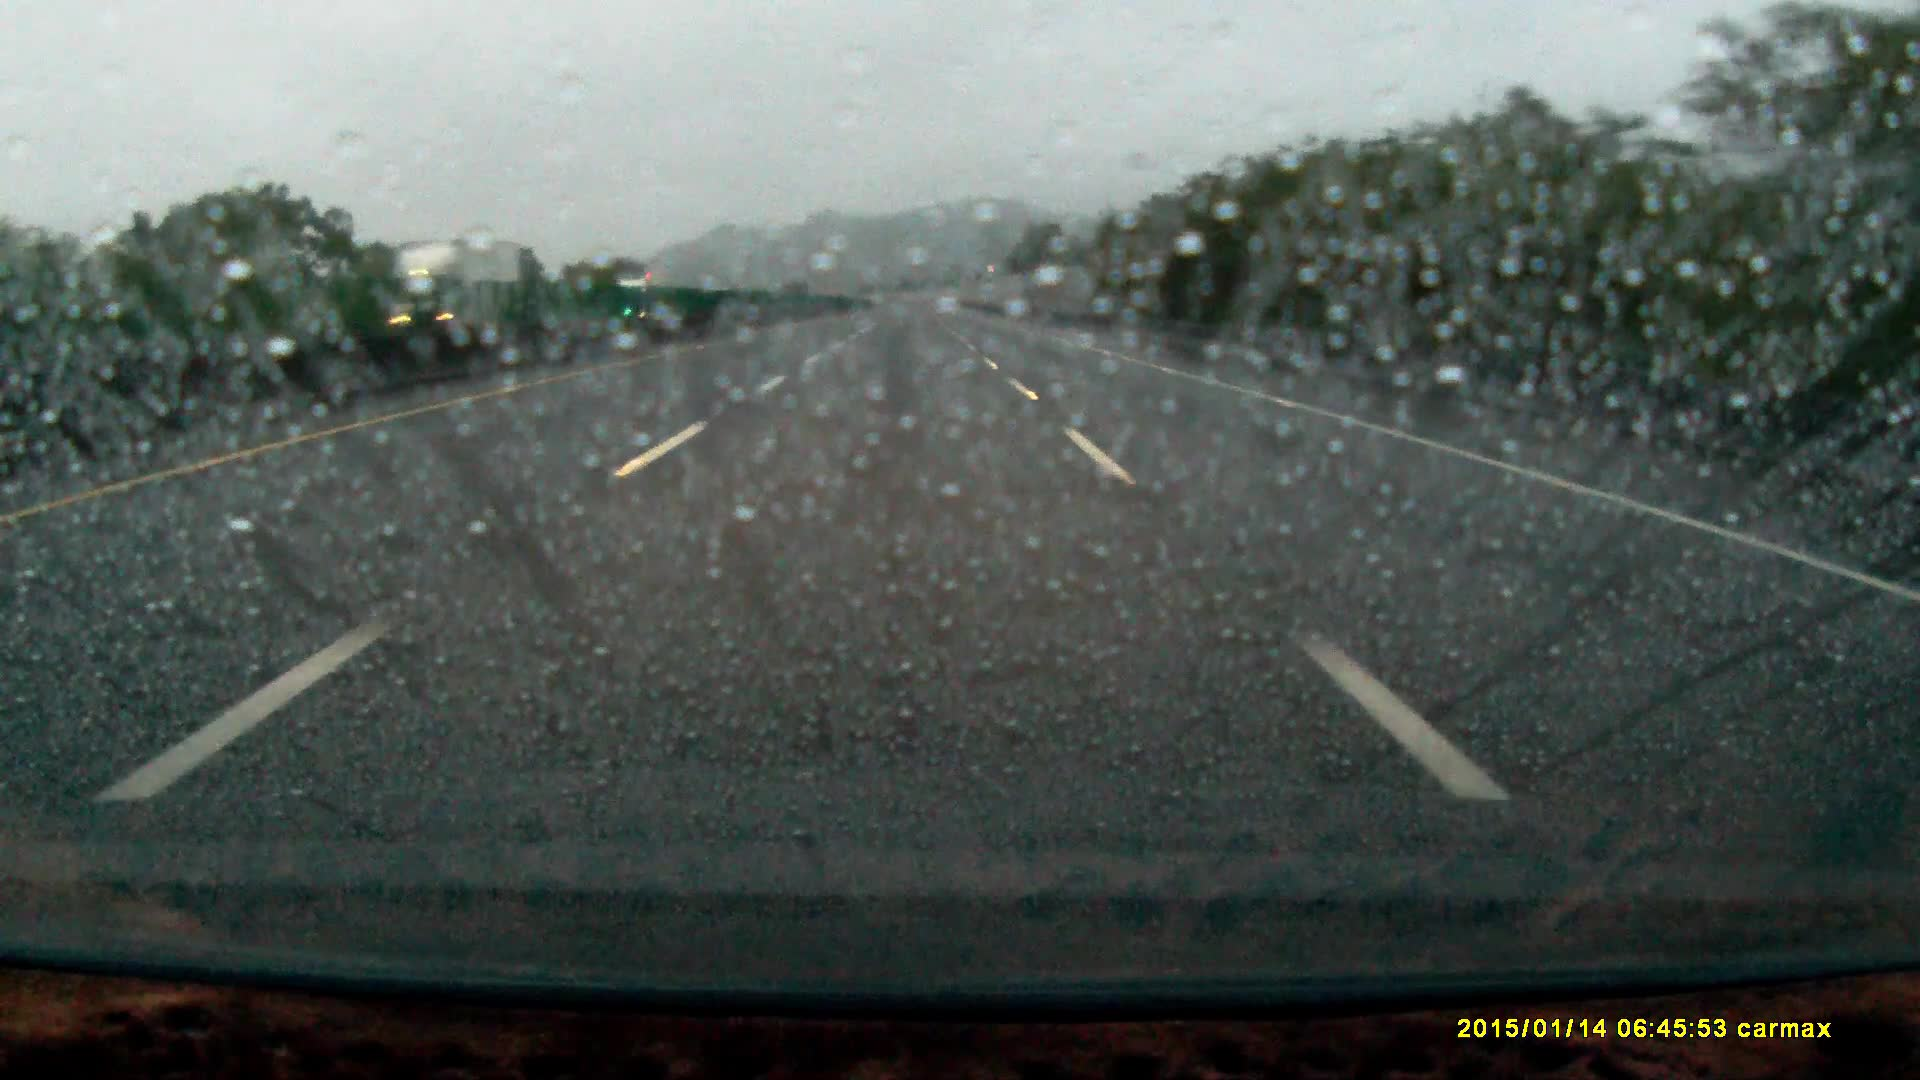vehicle: (378, 236, 537, 357), (618, 277, 673, 316)
